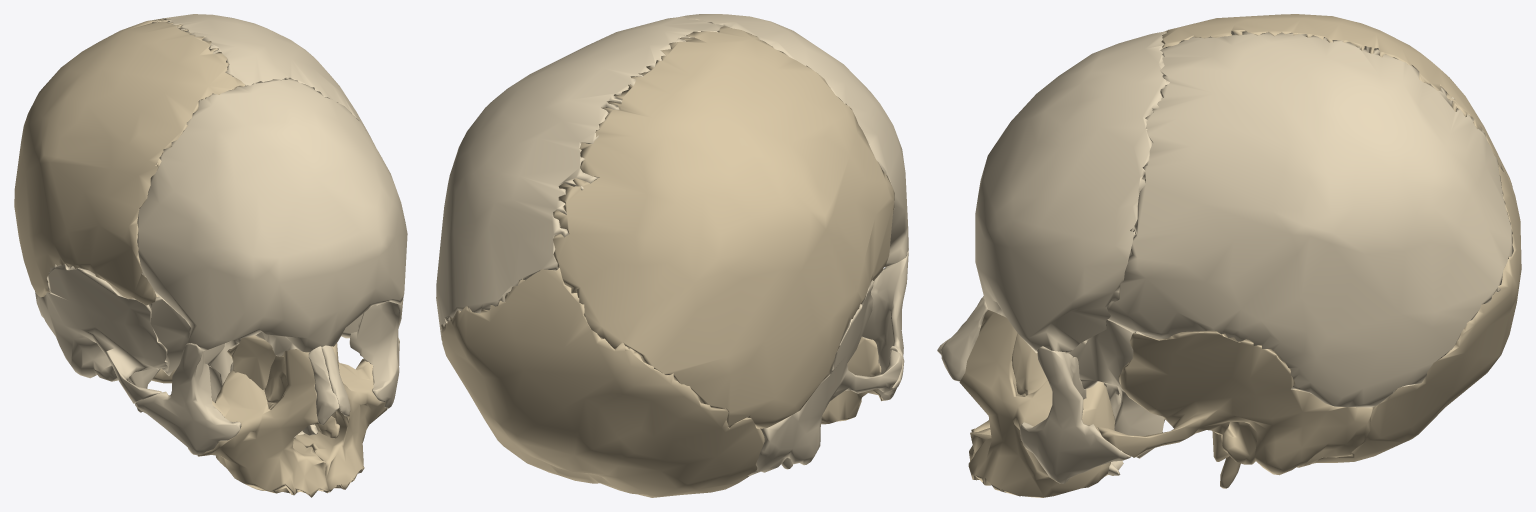
Rendered from cranium.glb.
The picture shows the model from 3 angles, left to right: view 1: azimuth 30°, elevation 25°; view 2: azimuth 150°, elevation 25°; view 3: azimuth 270°, elevation 25°; orthographic projection. The views are drawn at different scales.
Parts seen in each view (by area): view 1: frontal-bone, right-parietal-bone, right-maxilla, right-temporal-bone, left-parietal-bone, right-zygomatic-bone, left-maxilla, left-zygomatic-bone, sphenoid-bone, ethmoid-bone, right-nasal-bone, left-nasal-bone (+1 smaller); view 2: right-parietal-bone, occipital-bone, left-parietal-bone, frontal-bone, right-temporal-bone, right-zygomatic-bone, right-maxilla; view 3: left-parietal-bone, frontal-bone, left-temporal-bone, left-maxilla, occipital-bone, right-parietal-bone, left-zygomatic-bone, sphenoid-bone, left-nasal-bone, left-lacrimal-bone.
Boxes of the visible parts, x1,y1,x2,y2 form: frontal-bone: [137, 78, 407, 356]; right-parietal-bone: [14, 18, 245, 305]; right-maxilla: [197, 349, 328, 497]; right-temporal-bone: [35, 264, 168, 412]; left-parietal-bone: [150, 14, 374, 145]; right-zygomatic-bone: [135, 343, 241, 455]; left-maxilla: [294, 343, 387, 492]; left-zygomatic-bone: [349, 297, 403, 408]; sphenoid-bone: [149, 296, 363, 402]; ethmoid-bone: [227, 335, 283, 389]; right-nasal-bone: [308, 346, 339, 424]; left-nasal-bone: [321, 345, 350, 416]; right-parietal-bone: [553, 26, 894, 428]; occipital-bone: [441, 268, 764, 497]; left-parietal-bone: [436, 16, 723, 340]; frontal-bone: [678, 14, 908, 267]; right-temporal-bone: [748, 280, 902, 475]; right-zygomatic-bone: [862, 252, 908, 400]; right-maxilla: [821, 337, 884, 424]; left-parietal-bone: [1107, 31, 1513, 407]; frontal-bone: [975, 31, 1169, 353]; left-temporal-bone: [1097, 330, 1373, 488]; left-maxilla: [959, 310, 1115, 497]; occipital-bone: [1312, 165, 1521, 463]; right-parietal-bone: [1161, 14, 1512, 186]; left-zygomatic-bone: [1020, 346, 1130, 483]; sphenoid-bone: [1065, 320, 1165, 458]; left-nasal-bone: [941, 297, 987, 381]; left-lacrimal-bone: [1011, 333, 1047, 395].
Size of the model in its own units: 0.3592 by 0.4066 by 0.4926.
